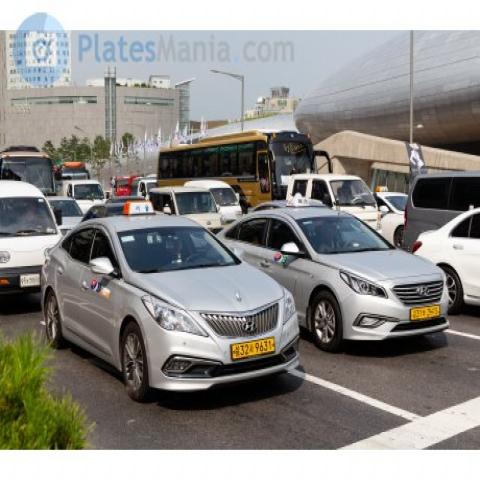LP: (226, 334, 278, 368), (406, 301, 445, 326)
